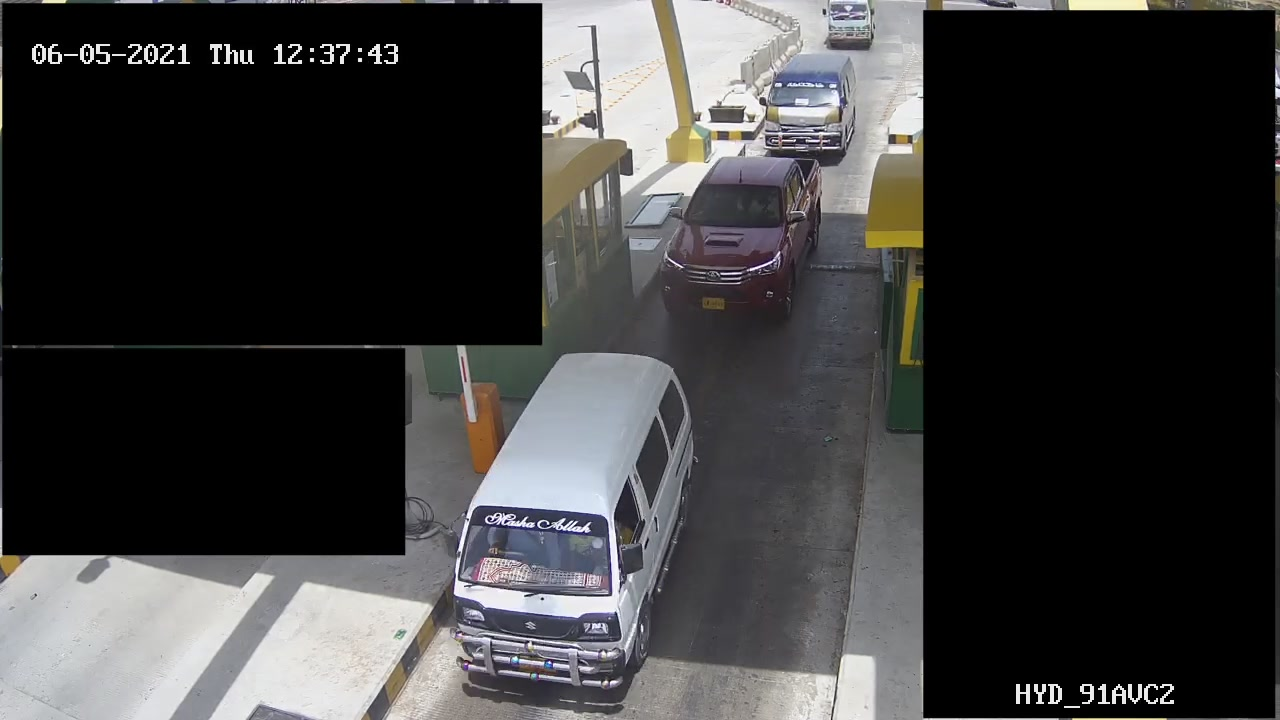F1: (661, 136, 819, 319)
